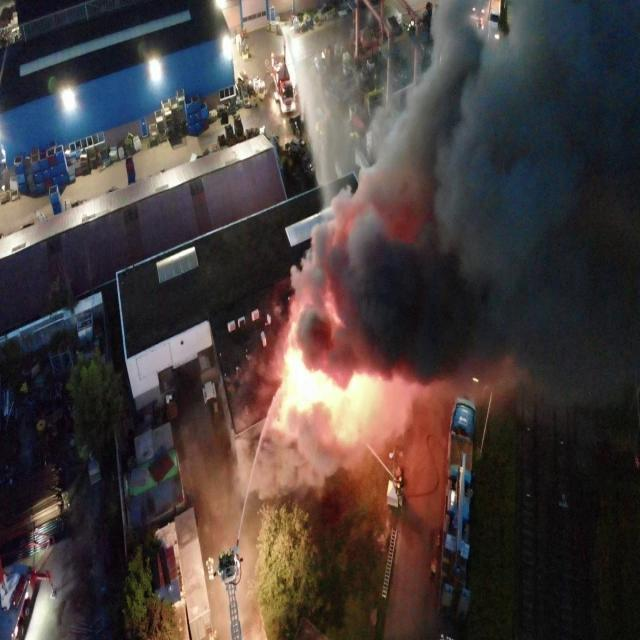Fire: (283, 347, 367, 412)
Smoke: (228, 0, 639, 501)
